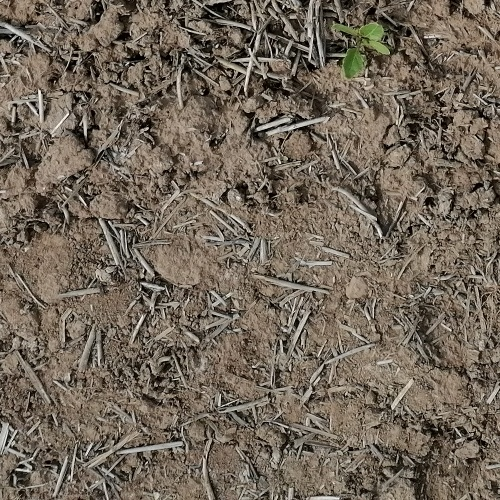beet: (335, 21, 392, 79)
